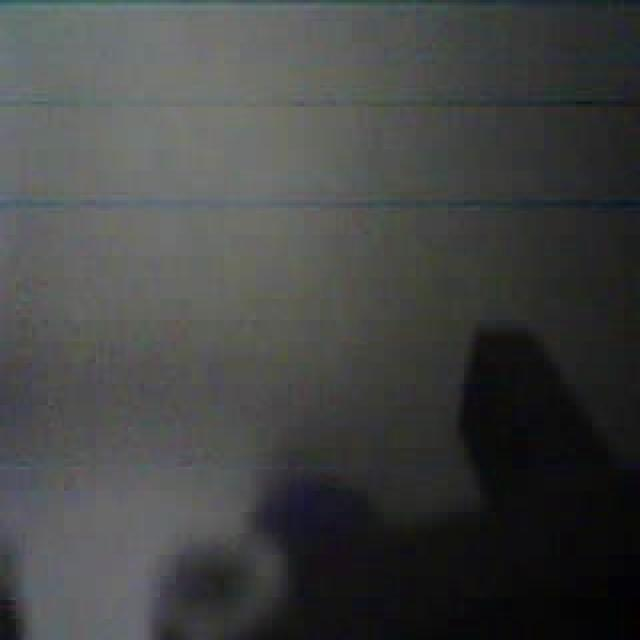blue_ball: (252, 462, 394, 590)
